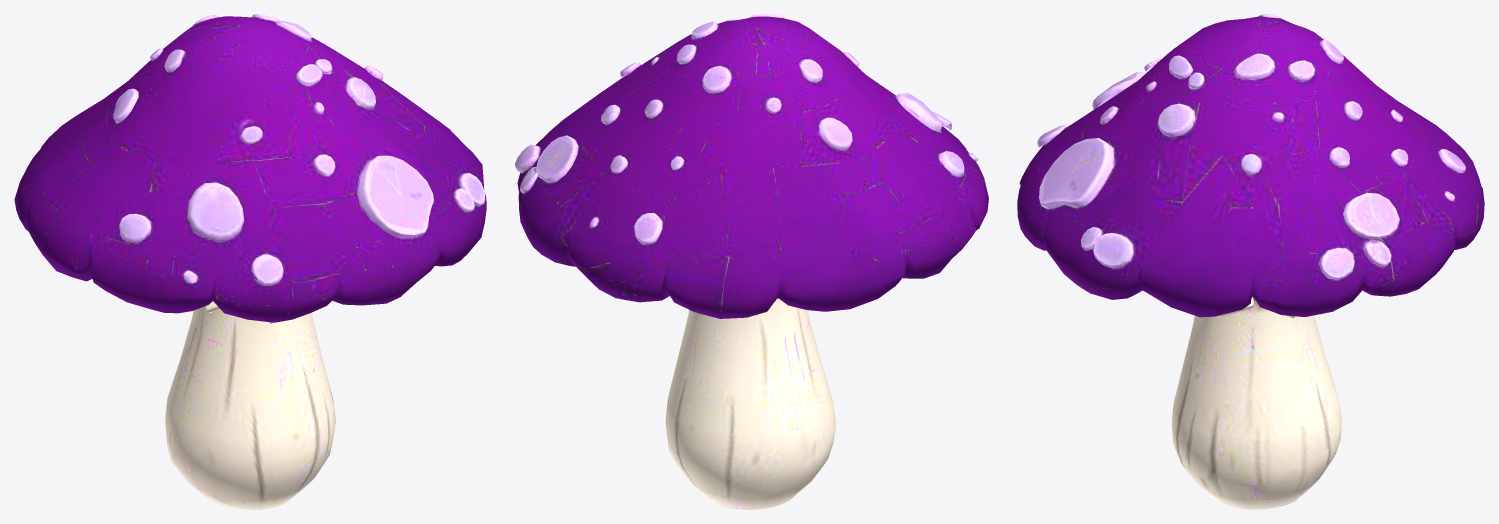
File: prop_mushroom.glb
The picture shows the model from 3 angles, left to right: view 1: azimuth 30°, elevation 25°; view 2: azimuth 150°, elevation 25°; view 3: azimuth 270°, elevation 25°; orthographic projection.
Visible parts, largest first — view 1: prop_mushroom; view 2: prop_mushroom; view 3: prop_mushroom.
Boxes of the visible parts, <box> form: prop_mushroom: <box>14,14,486,509</box>; prop_mushroom: <box>515,14,988,509</box>; prop_mushroom: <box>1017,14,1484,509</box>.
Bounding box in the file's own units: 1.85 × 2 × 1.84.
Materials: 1 (1 with a texture image).
